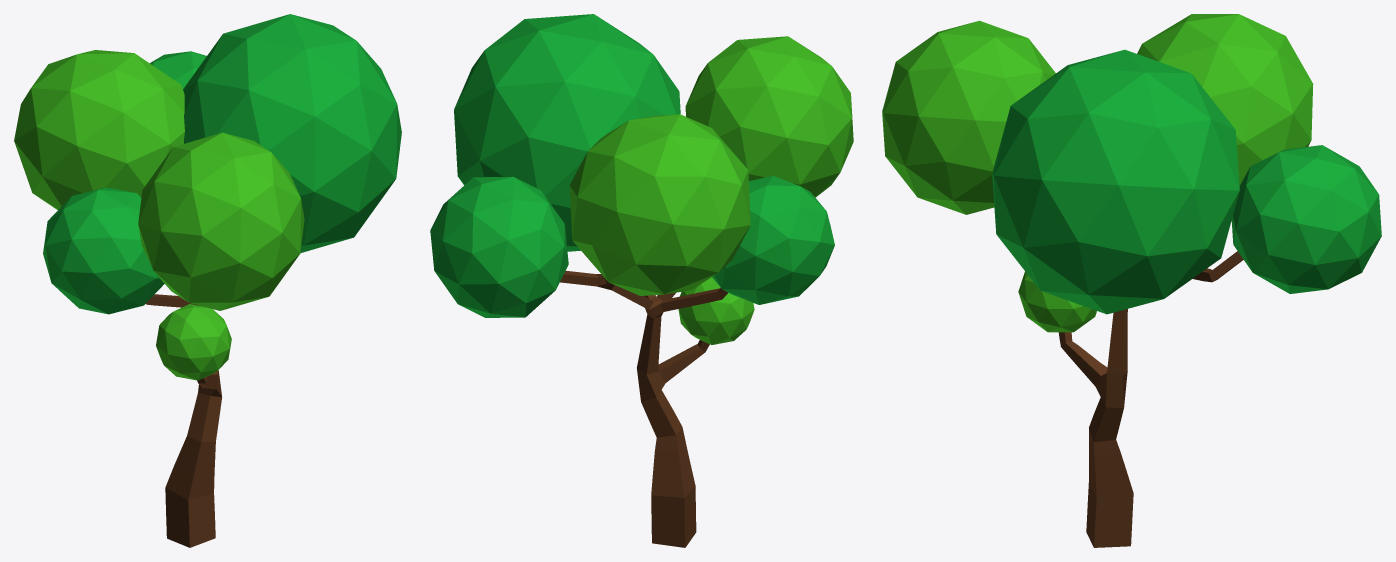
File: tree1.glb
3 views of the same model, side by side, from view 1: azimuth 30°, elevation 25°; view 2: azimuth 150°, elevation 25°; view 3: azimuth 270°, elevation 25° (orthographic). The views are drawn at different scales.
Visible parts, largest first — view 1: Icosphere.005; view 2: Icosphere.005; view 3: Icosphere.005.
Boxes of the visible parts, x1,y1,x2,y2 form: Icosphere.005: [14, 14, 401, 547]; Icosphere.005: [430, 14, 853, 547]; Icosphere.005: [882, 14, 1381, 547].
Bounding box in the file's own units: 9.46 × 12.81 × 10.95.
